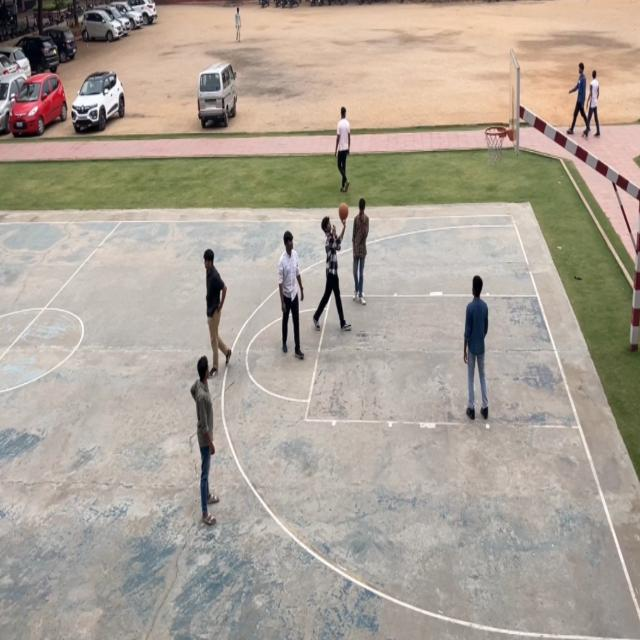basketball: (338, 201, 349, 224)
hoop: (483, 123, 507, 167)
